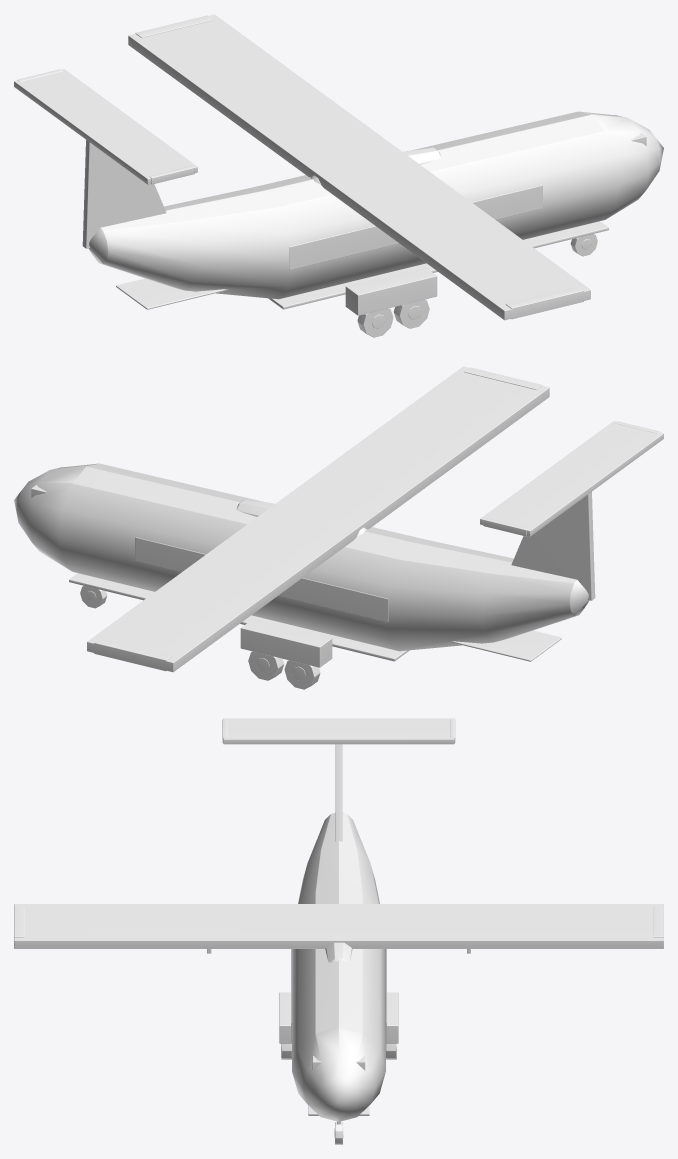
The model's file is cargo_plane.glb.
3 renders of one model, top to bottom at view 1: azimuth 30°, elevation 25°; view 2: azimuth 150°, elevation 25°; view 3: azimuth 270°, elevation 25°, orthographic. The views are drawn at different scales.
Parts seen in each view (by area): view 1: CargoPlane; view 2: CargoPlane; view 3: CargoPlane.
Boxes of the visible parts, x1,y1,x2,y2 form: CargoPlane: (14, 14, 663, 337); CargoPlane: (14, 366, 663, 689); CargoPlane: (14, 718, 663, 1144).
Size of the model in its own units: 16.1 by 6.52 by 18.
Materials: 1 (1 with a texture image).
